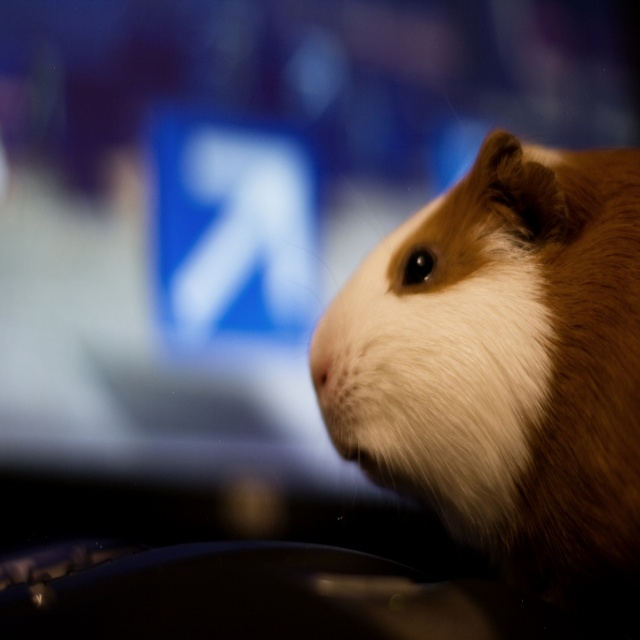Hamster: (285, 126, 640, 599)
